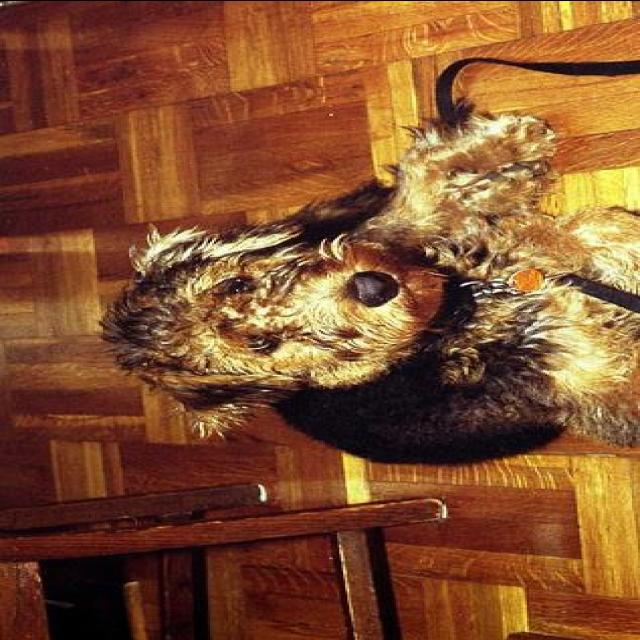airedale: (97, 110, 638, 466)
